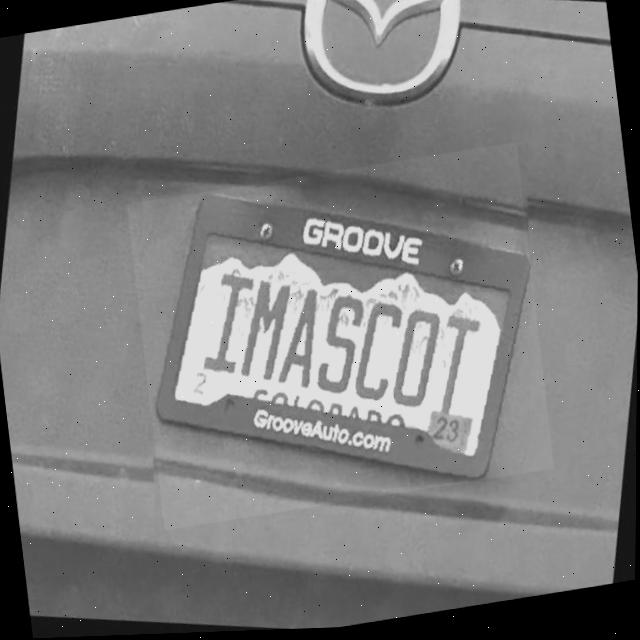LicensePlate: (152, 193, 529, 483)
